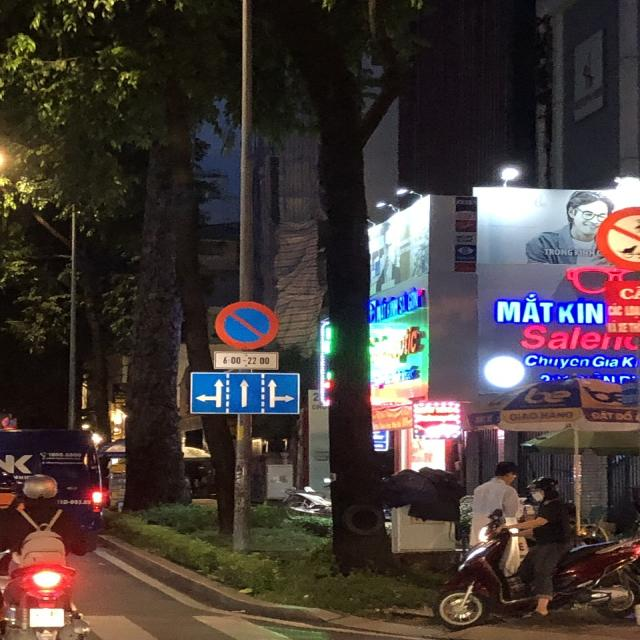Bien bao cam do xe: (211, 298, 286, 351)
